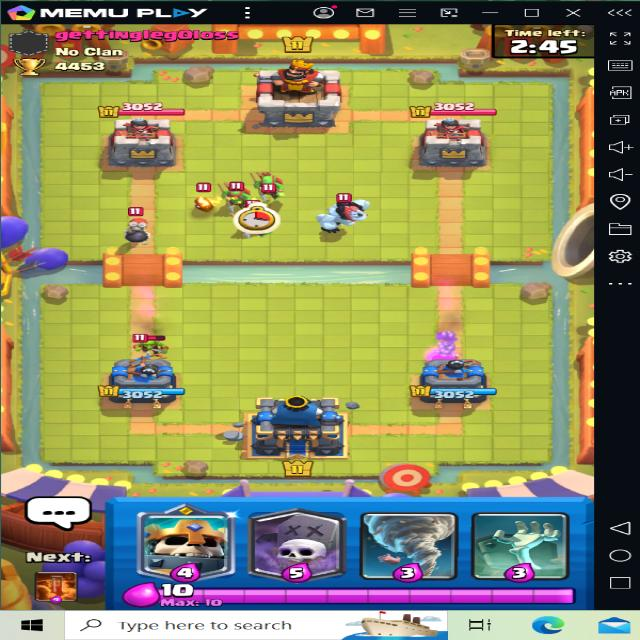bomber: (102, 215, 160, 247)
fire-spirit: (182, 183, 214, 219)
goblin: (126, 328, 178, 356)
ice-golem: (320, 188, 381, 232)
spear-goblin: (255, 166, 282, 194), (221, 181, 254, 203)
